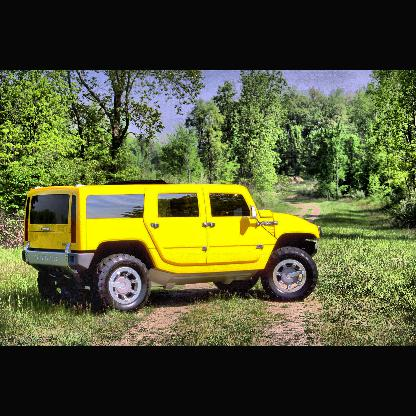AM General Hummer SUV 2000: (23, 181, 320, 315)
